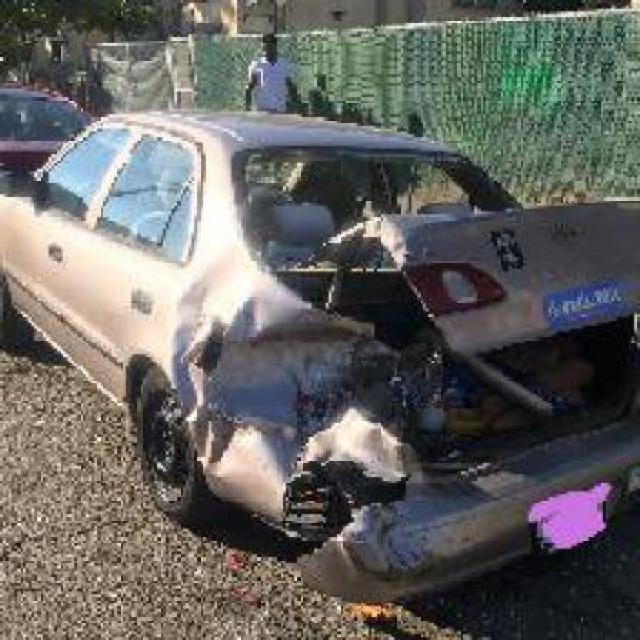damaged-rear-bumper: (267, 428, 638, 570)
damaged-trunk: (328, 203, 638, 360)
